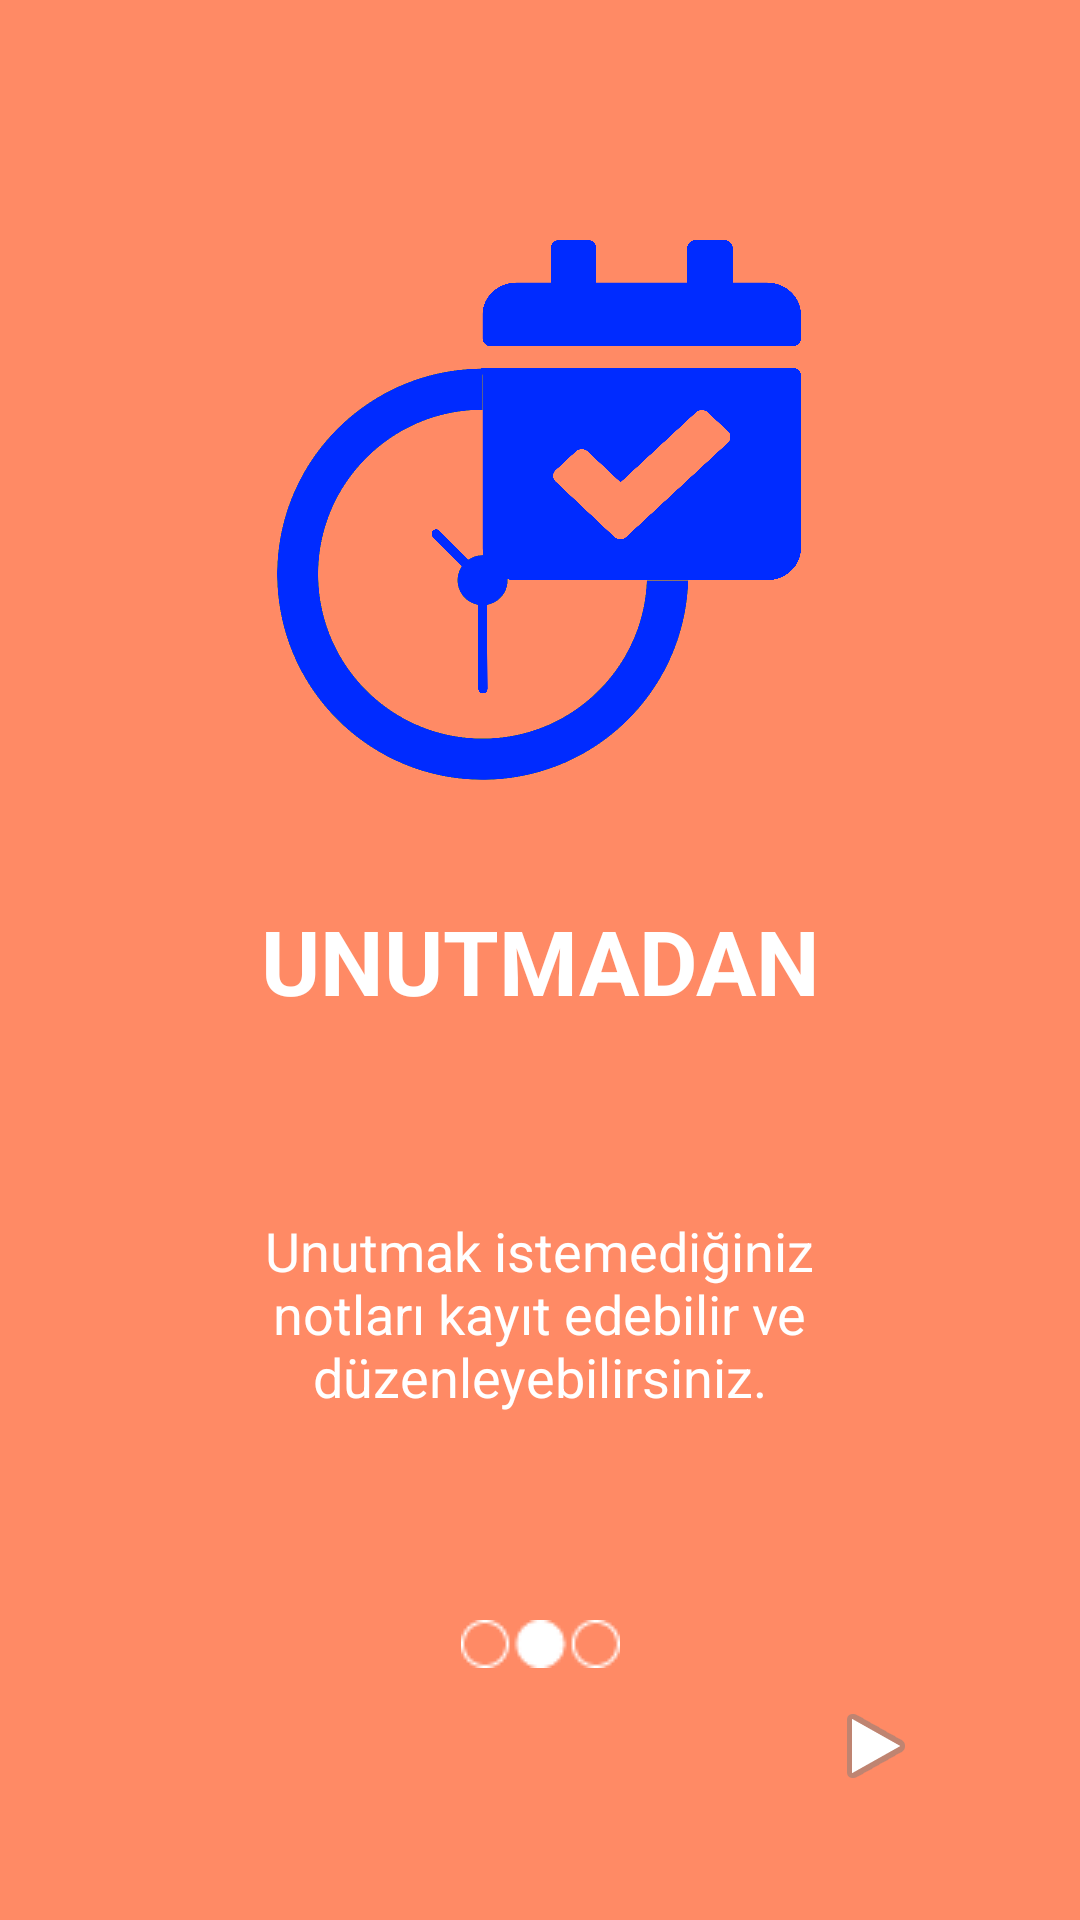

Screen size 1080 x 1920. Icon name, then its box in pixels as (x1, y1, x2, y2):
pagesecond: (461, 1620, 620, 1668)
play: (847, 1714, 905, 1778)
